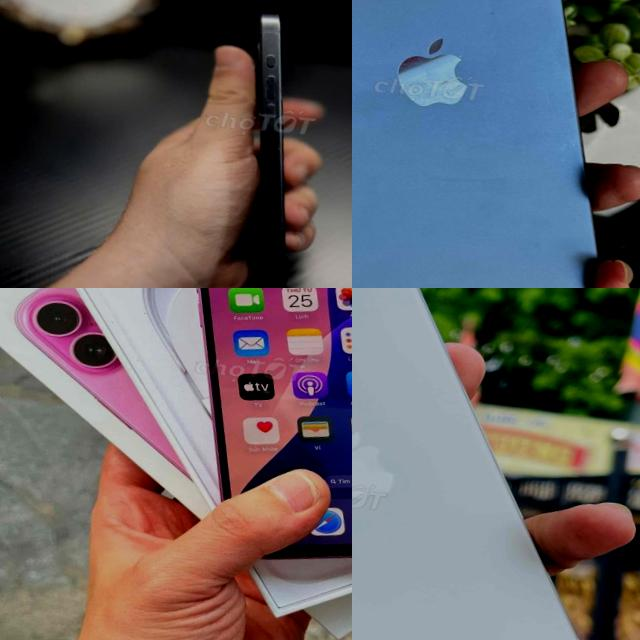gen_11: (352, 288, 627, 640)
gen_15: (352, 0, 640, 288), (206, 0, 352, 288)
gen_16: (143, 288, 352, 577)
